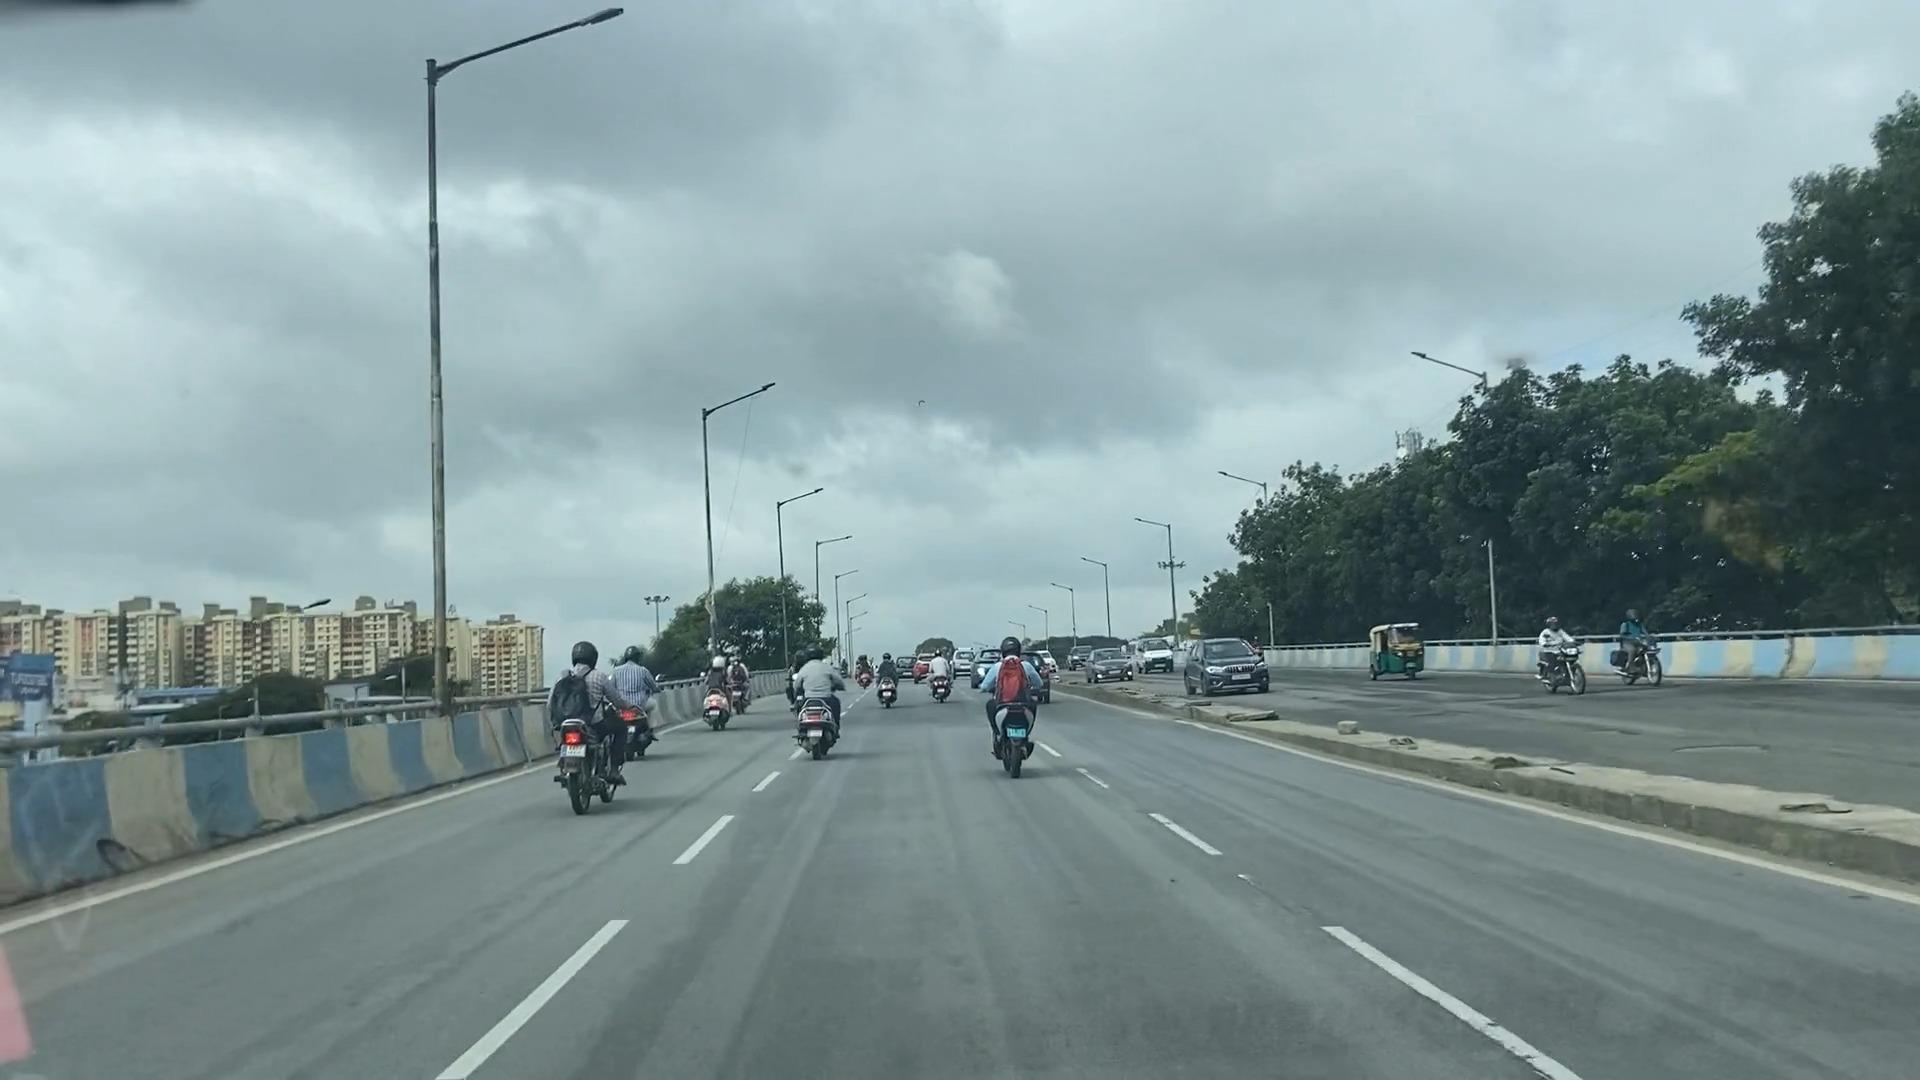LMV: (554, 636, 612, 814), (992, 638, 1036, 782), (796, 646, 841, 765), (702, 646, 748, 736)
